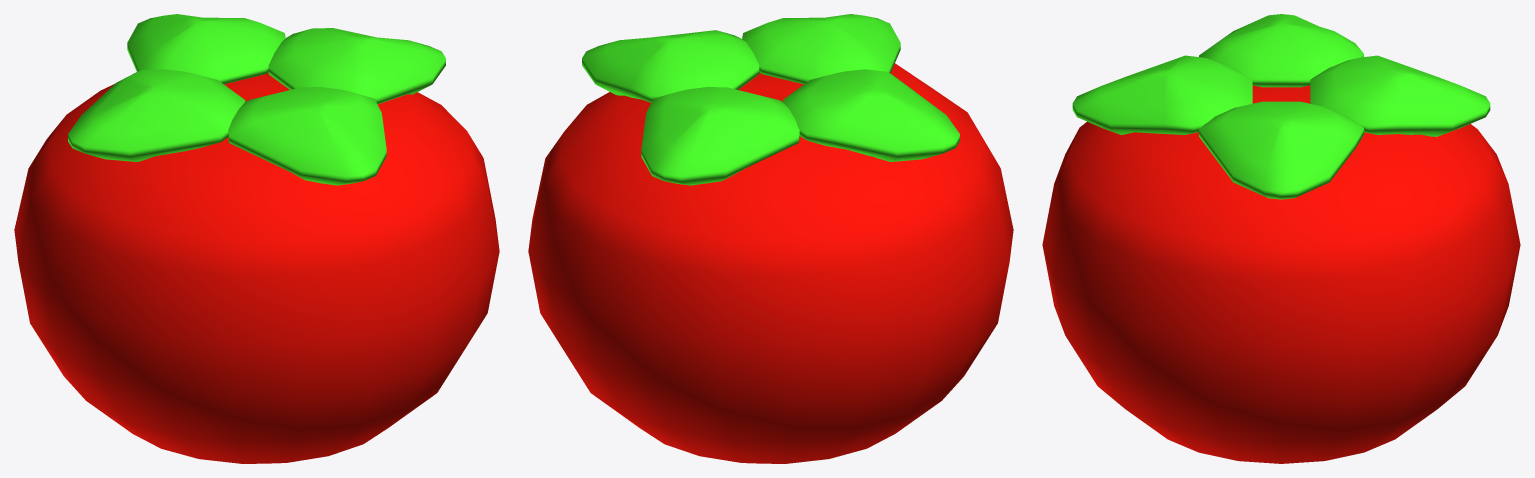
File: tomato.fbx
The picture shows the model from 3 angles, left to right: view 1: azimuth 30°, elevation 25°; view 2: azimuth 150°, elevation 25°; view 3: azimuth 270°, elevation 25°; orthographic projection. The views are drawn at different scales.
Parts seen in each view (by area): view 1: pSphere3.001; view 2: pSphere3.001; view 3: pSphere3.001.
Boxes of the visible parts, left/top/right/bottom form: pSphere3.001: left=14, top=14, right=499, bottom=463; pSphere3.001: left=528, top=14, right=1013, bottom=463; pSphere3.001: left=1042, top=14, right=1520, bottom=463.
Bounding box in the file's own units: 3.18 × 2.72 × 3.18.
Materials: 2 (2 with a texture image).
